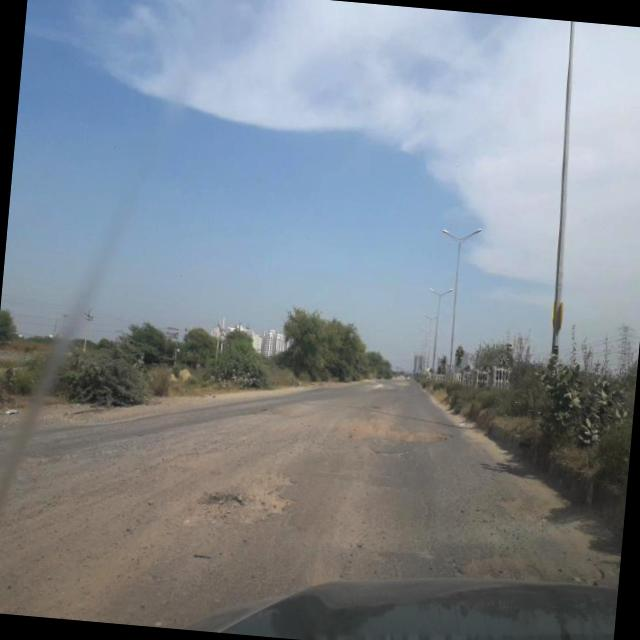crack: (405, 472, 436, 526)
pothole: (442, 520, 614, 592), (194, 454, 305, 538), (324, 394, 452, 465), (480, 476, 559, 530), (250, 394, 321, 443)
